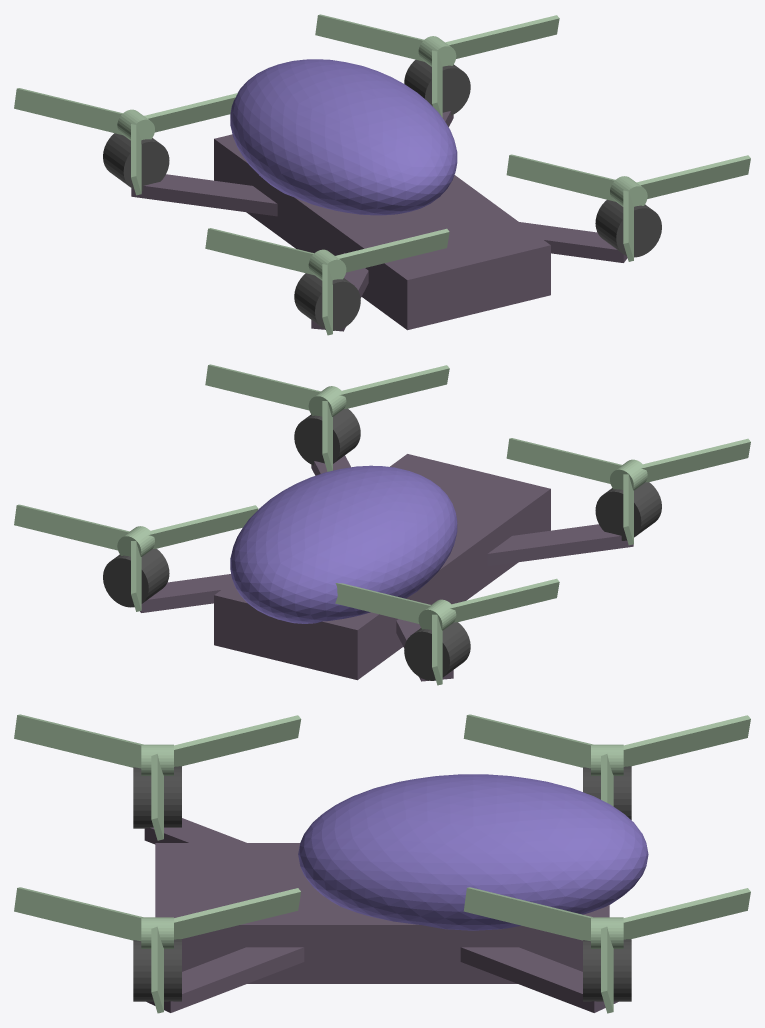
Rendered from Mode 2 Ghost.glb.
3 views of the same model, one above another, from view 1: azimuth 30°, elevation 25°; view 2: azimuth 150°, elevation 25°; view 3: azimuth 270°, elevation 25° (orthographic). The views are drawn at different scales.
Parts seen in each view (by area): view 1: canopy, frame_body, prop_2, prop_0, prop_1, prop_3, arm_3, motor_2, motor_0, motor_3, arm_0, motor_1; view 2: canopy, frame_body, prop_0, prop_2, prop_1, prop_3, arm_2, motor_3, motor_1, motor_0, motor_2, arm_1; view 3: canopy, frame_body, prop_1, prop_2, prop_0, prop_3, arm_1, arm_0, motor_1, motor_0, motor_2, arm_2 (+1 smaller).
Boxes of the visible parts, <box> form: canopy: <box>230,59,457,215</box>; frame_body: <box>214,134,550,330</box>; prop_2: <box>205,228,449,335</box>; prop_0: <box>506,154,750,261</box>; prop_1: <box>315,14,559,117</box>; prop_3: <box>14,88,237,195</box>; arm_3: <box>131,174,277,216</box>; motor_2: <box>294,273,360,330</box>; motor_0: <box>595,200,661,257</box>; motor_3: <box>103,133,169,190</box>; arm_0: <box>519,222,627,262</box>; motor_1: <box>404,60,470,115</box>; canopy: <box>230,465,457,623</box>; frame_body: <box>214,454,550,680</box>; prop_0: <box>205,364,449,471</box>; prop_2: <box>506,438,750,545</box>; prop_1: <box>14,504,258,611</box>; prop_3: <box>335,578,559,685</box>; arm_2: <box>487,524,633,566</box>; motor_3: <box>404,622,470,680</box>; motor_1: <box>103,549,169,607</box>; motor_0: <box>294,408,360,465</box>; motor_2: <box>595,482,661,540</box>; arm_1: <box>140,574,232,612</box>; canopy: <box>298,774,648,930</box>; frame_body: <box>155,843,609,983</box>; prop_1: <box>463,887,750,1013</box>; prop_2: <box>14,714,301,840</box>; prop_0: <box>14,887,300,1013</box>; prop_3: <box>463,714,750,806</box>; arm_1: <box>460,947,618,1012</box>; arm_0: <box>146,947,304,1012</box>; motor_1: <box>583,939,631,1001</box>; motor_0: <box>133,939,181,1001</box>; motor_2: <box>133,766,181,828</box>; arm_2: <box>144,818,246,844</box>.
Bounding box in the file's own units: 0.2027 × 0.0516 × 0.2271.
